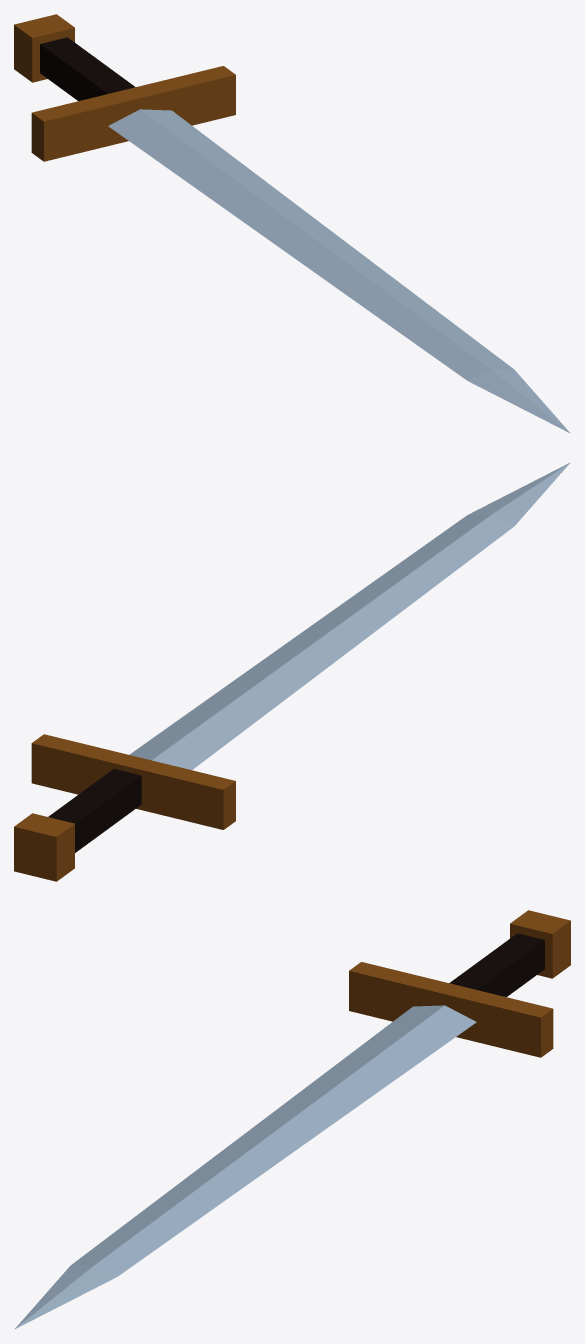
File: SM_Sword_Prototype.obj
3 renders of one model, top to bottom at view 1: azimuth 30°, elevation 25°; view 2: azimuth 150°, elevation 25°; view 3: azimuth 330°, elevation 25°, orthographic.
Parts seen in each view (by area): view 1: SM_Sword_Prototype; view 2: SM_Sword_Prototype; view 3: SM_Sword_Prototype.
Boxes of the visible parts, <box> form: SM_Sword_Prototype: <box>14,14,570,433</box>; SM_Sword_Prototype: <box>14,462,570,881</box>; SM_Sword_Prototype: <box>14,910,570,1329</box>.
Bounding box in the file's own units: 18 × 4 × 87.
